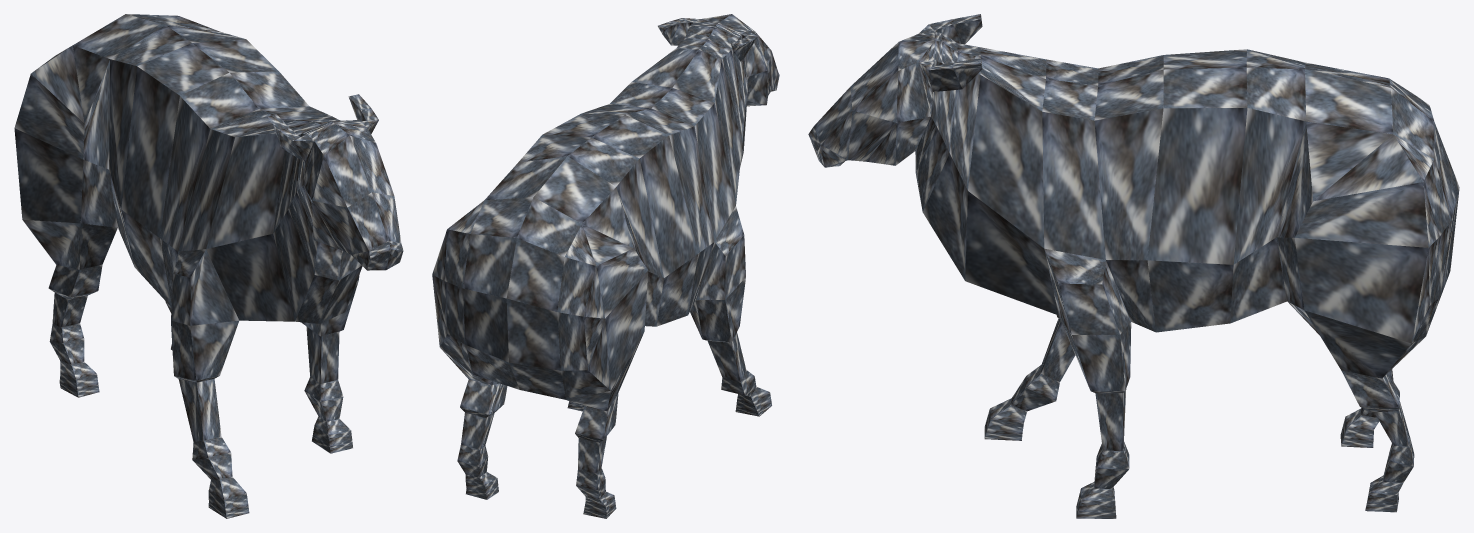
File: SheepIdle_000008.obj
3 views of the same model, side by side, from view 1: azimuth 30°, elevation 25°; view 2: azimuth 150°, elevation 25°; view 3: azimuth 270°, elevation 25° (orthographic). The views are drawn at different scales.
Parts seen in each view (by area): view 1: Sheep_Cylinder; view 2: Sheep_Cylinder; view 3: Sheep_Cylinder.
Part boxes in pixels (<box>): Sheep_Cylinder: <box>14,14,403,518</box>; Sheep_Cylinder: <box>432,14,779,518</box>; Sheep_Cylinder: <box>808,14,1459,518</box>.
Size of the model in its own units: 2.22 by 4.38 by 5.92.
